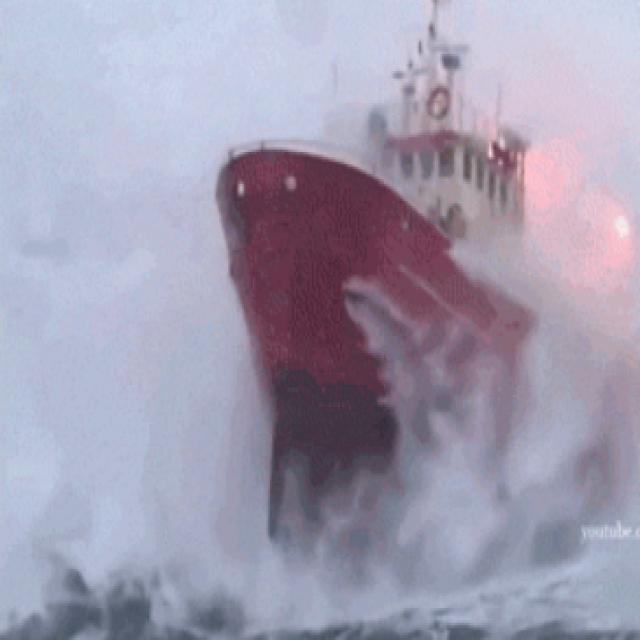cargoship: (229, 41, 618, 560)
